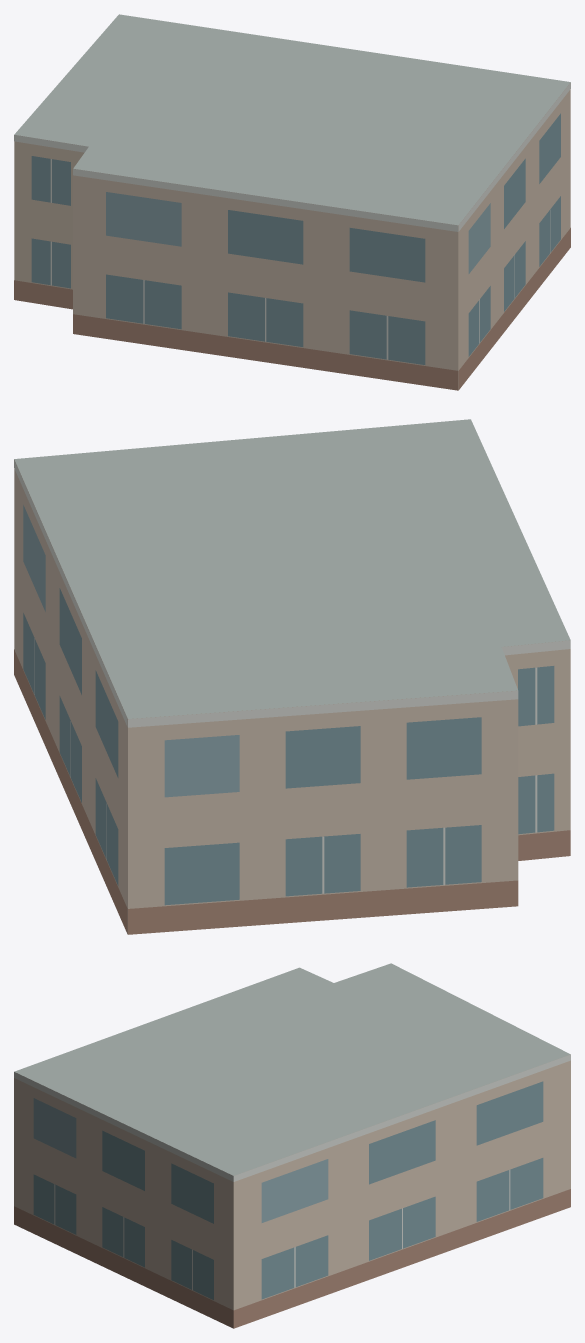
Rendered from survey-upis-32492820.glb.
3 renders of one model, top to bottom at view 1: azimuth 30°, elevation 25°; view 2: azimuth 150°, elevation 25°; view 3: azimuth 270°, elevation 25°, orthographic. The views are drawn at different scales.
Parts seen in each view (by area): view 1: survey-upis-32492820.tmp; view 2: survey-upis-32492820.tmp; view 3: survey-upis-32492820.tmp.
Part boxes in pixels (left/top/right/bottom): survey-upis-32492820.tmp: left=14, top=14, right=570, bottom=390; survey-upis-32492820.tmp: left=14, top=419, right=570, bottom=934; survey-upis-32492820.tmp: left=14, top=963, right=570, bottom=1328.
Bounding box in the file's own units: 18.08 × 6.05 × 20.
